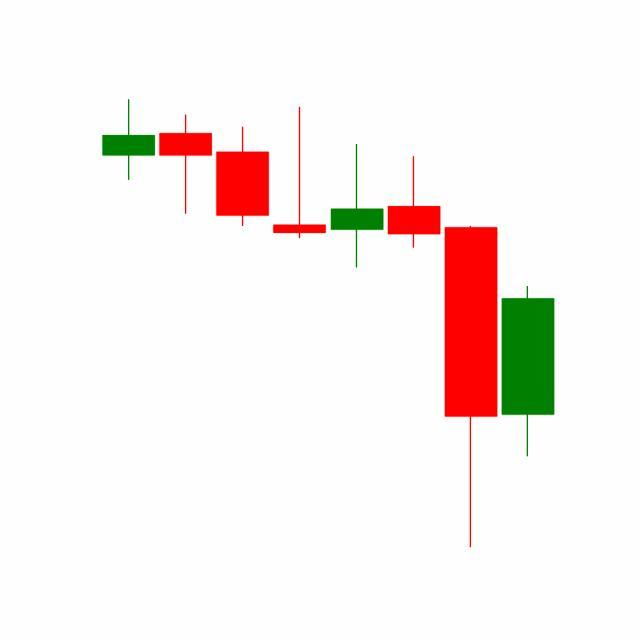Three Outside Up-Down: (328, 139, 500, 548)
